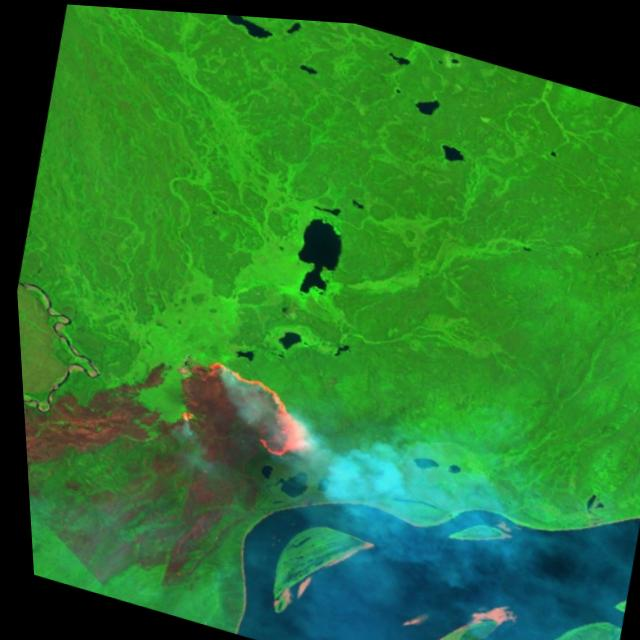fire: (162, 344, 316, 460)
